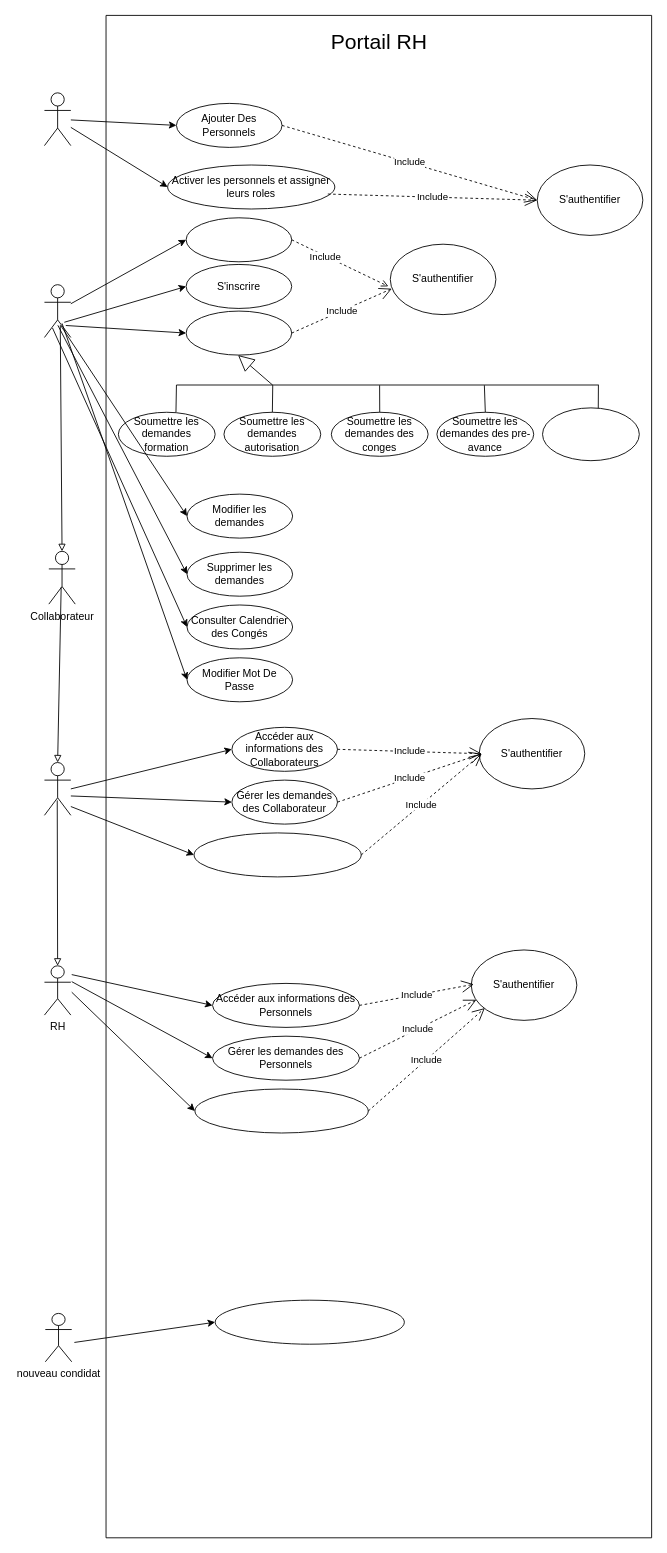
Image size: 667x1553. Some labels were removed from this diagram. The centre of each missing label's shape, as x and y in pixels:
Admin: the point at 57,119
Chef Hiérarchique: the point at 57,788
Consulter la calendrier des congés de Collaborateurs: the point at 277,854
Consulter la calendrier des congés des Personnels: the point at 281,1110
Consulter Son Profil: the point at 238,239
Personnels: the point at 57,310
Soumettre les demandes: the point at 238,332
Soumettre les demandes des document: the point at 590,434
Soumettre une Condidature: the point at 309,1321
